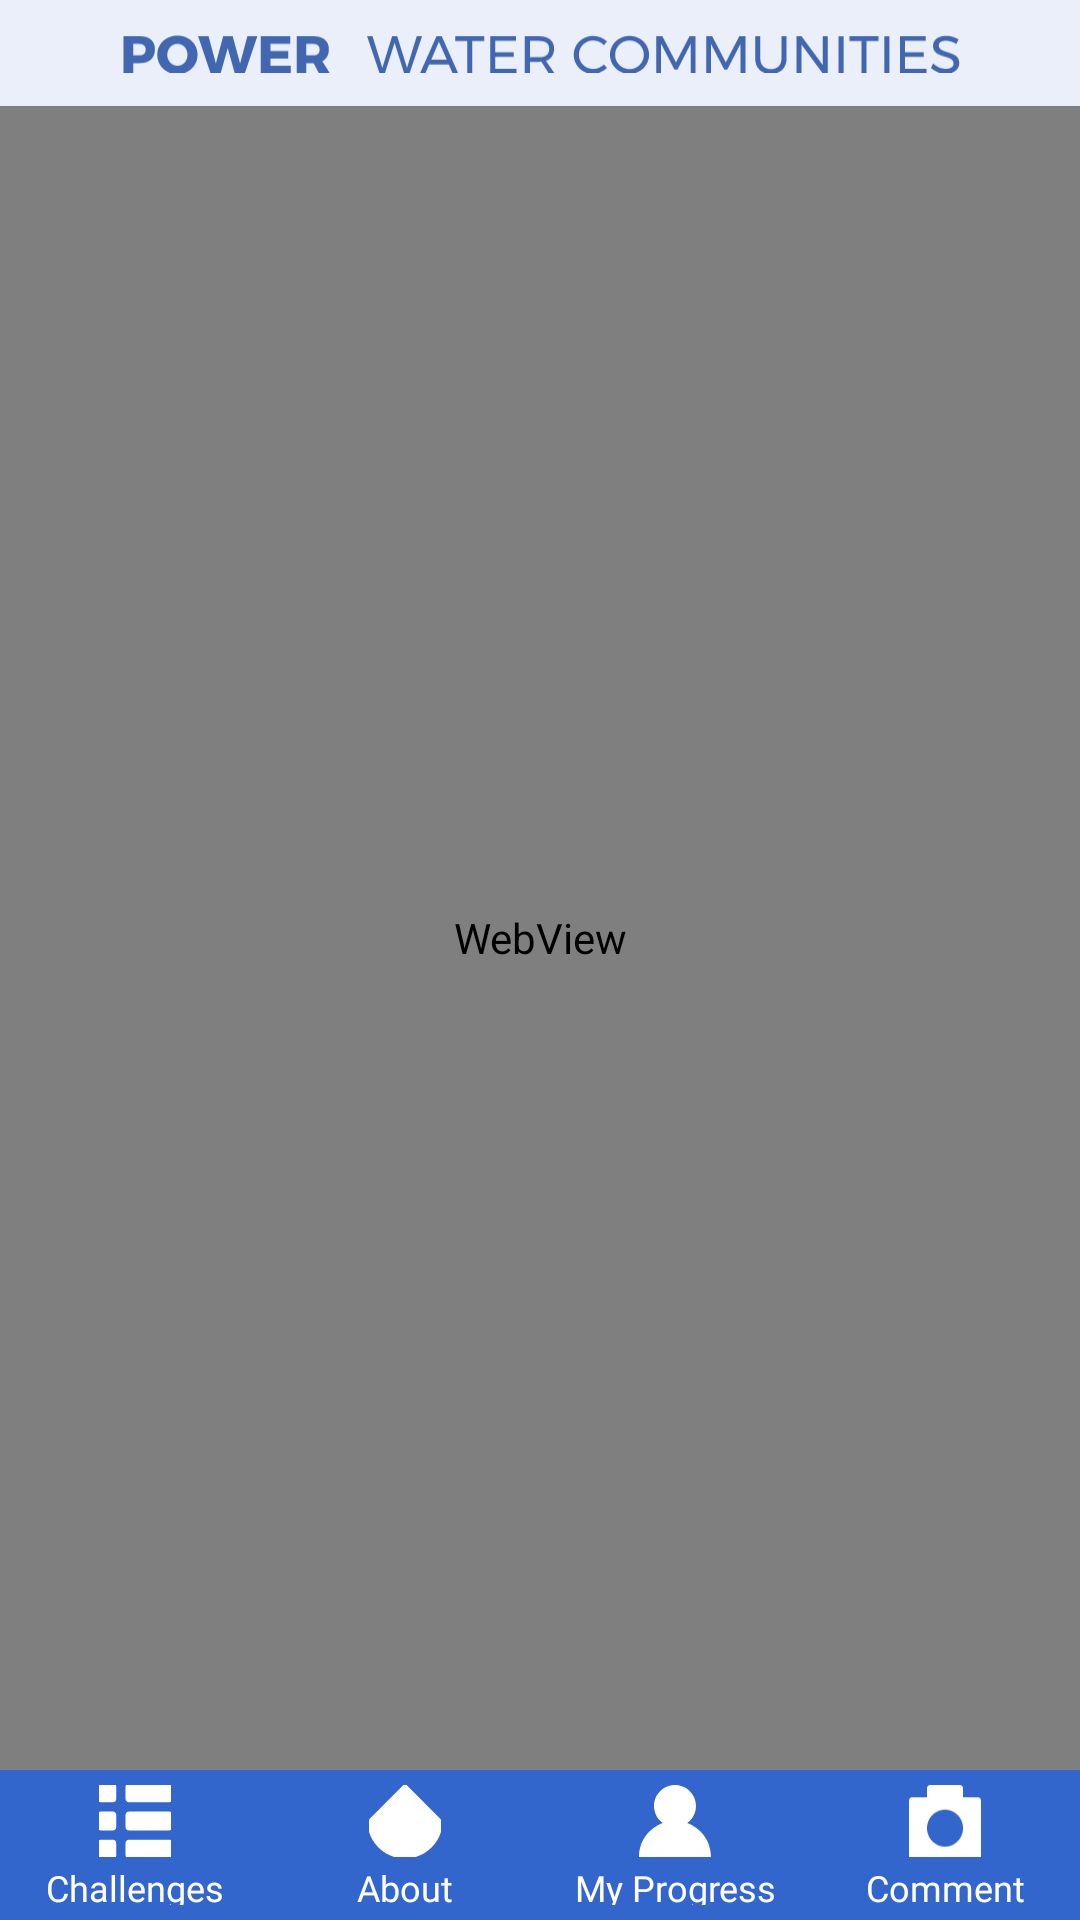

Screen size 1080×1920. Icon name, then its center in pixels as [x,y]:
account: [675,1821]
photo: [945,1821]
